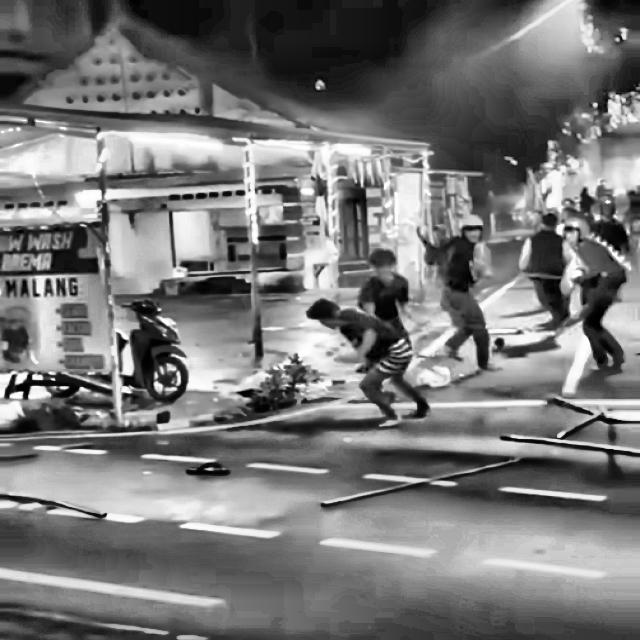robbery: (292, 182, 637, 442)
